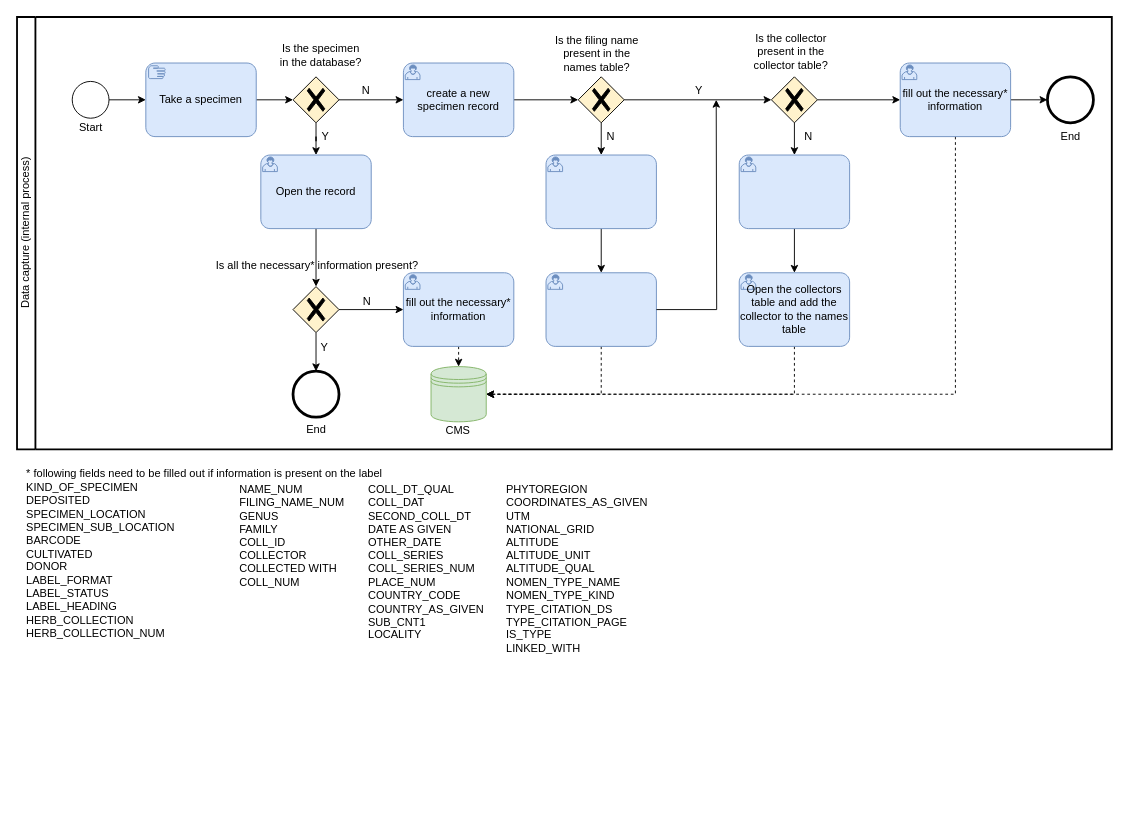
This 1128x833 diagram has some shape labels left out. The shapes that lost their labels are listed below. From the top down, each one's box as (x1, y1, x2, y2) in pixels, then its label:
(545, 154, 656, 229): search for the name in online data sources
(738, 154, 850, 229): search for the collector in online data sources
(545, 272, 656, 346): Open the names table and add the name to the names table
